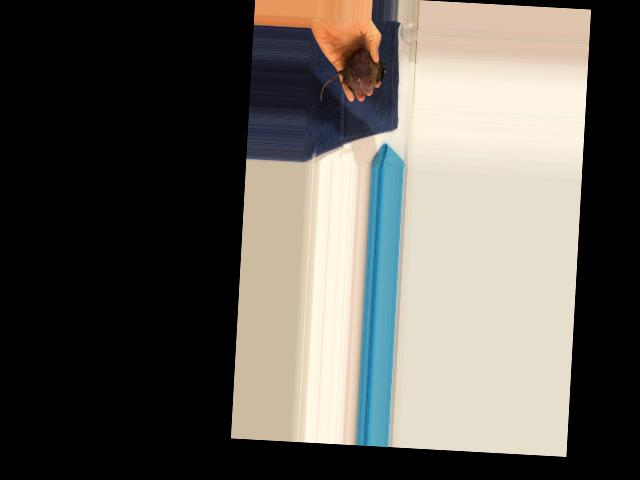beet: (319, 46, 386, 105)
